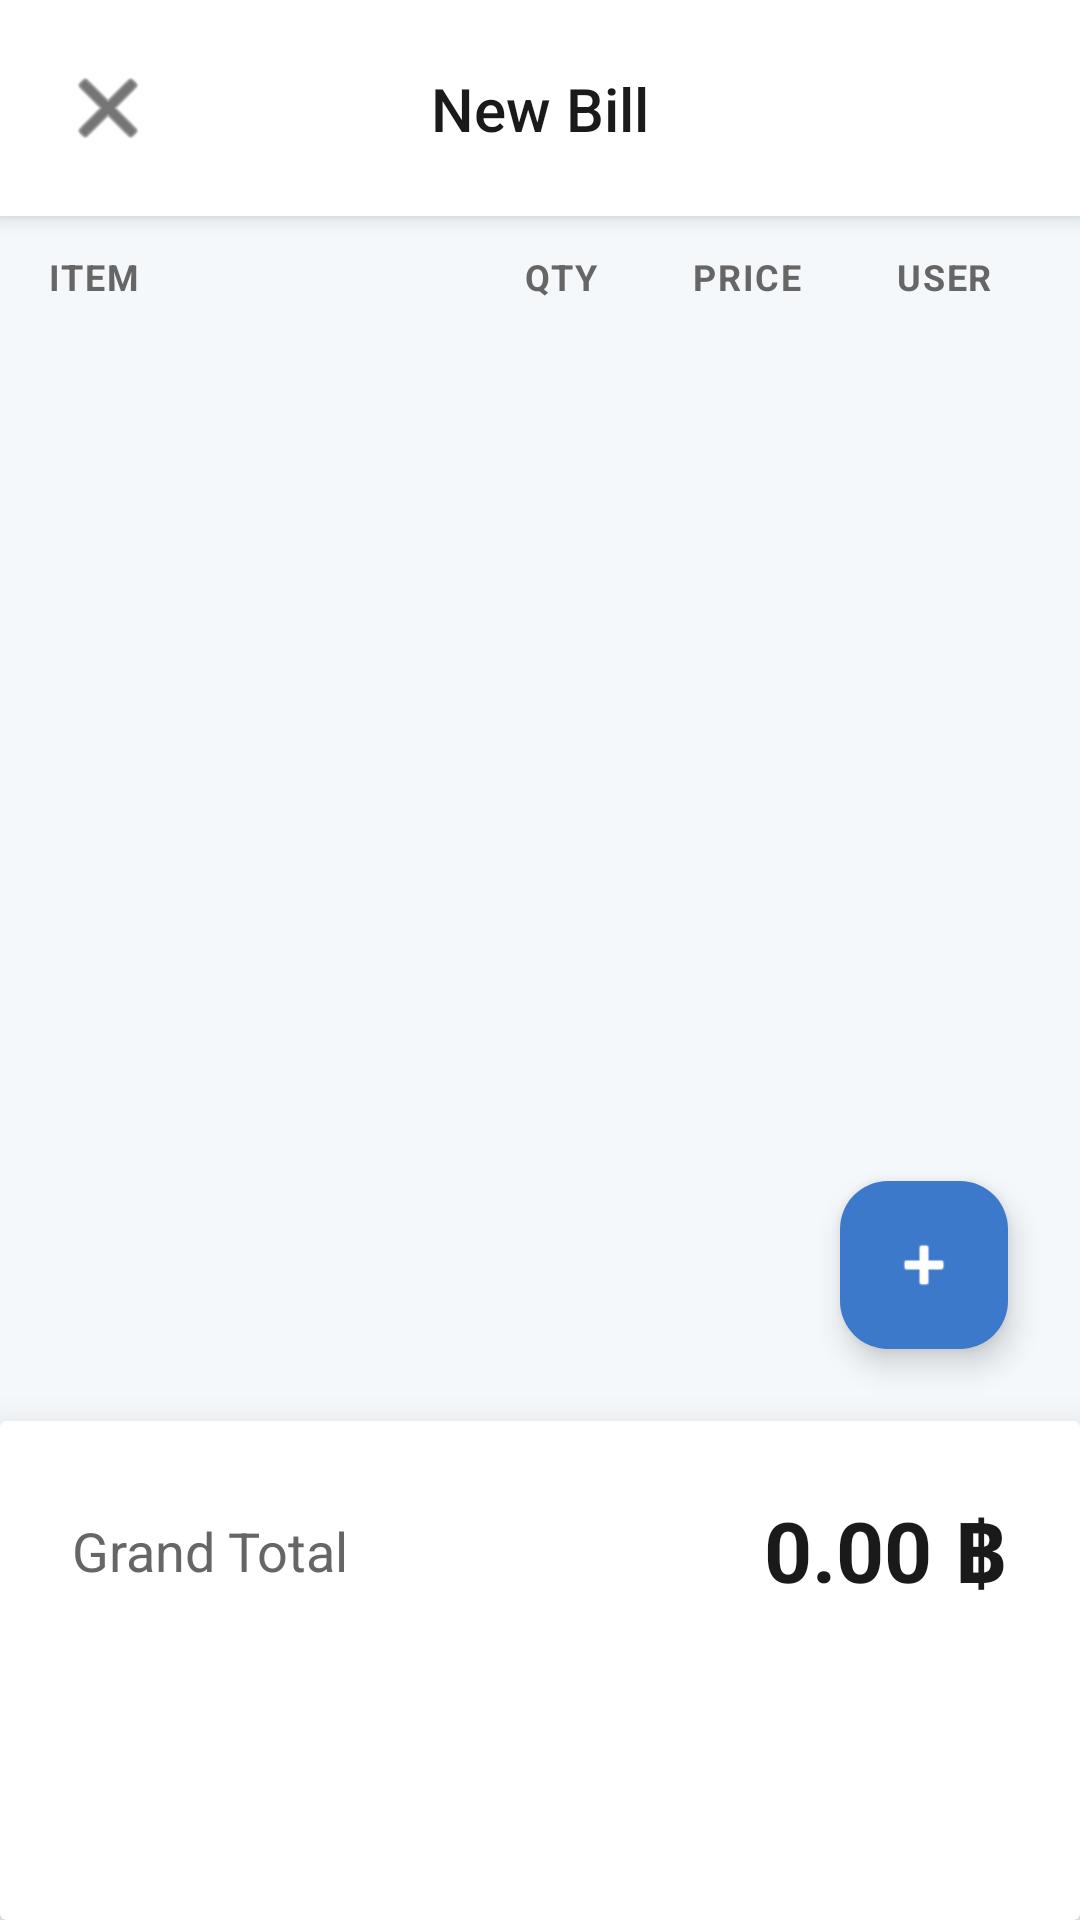

Screen size 1080*1920. Icon name, then its center in pixels as point (x, y):
Add Item: point (924, 1265)
